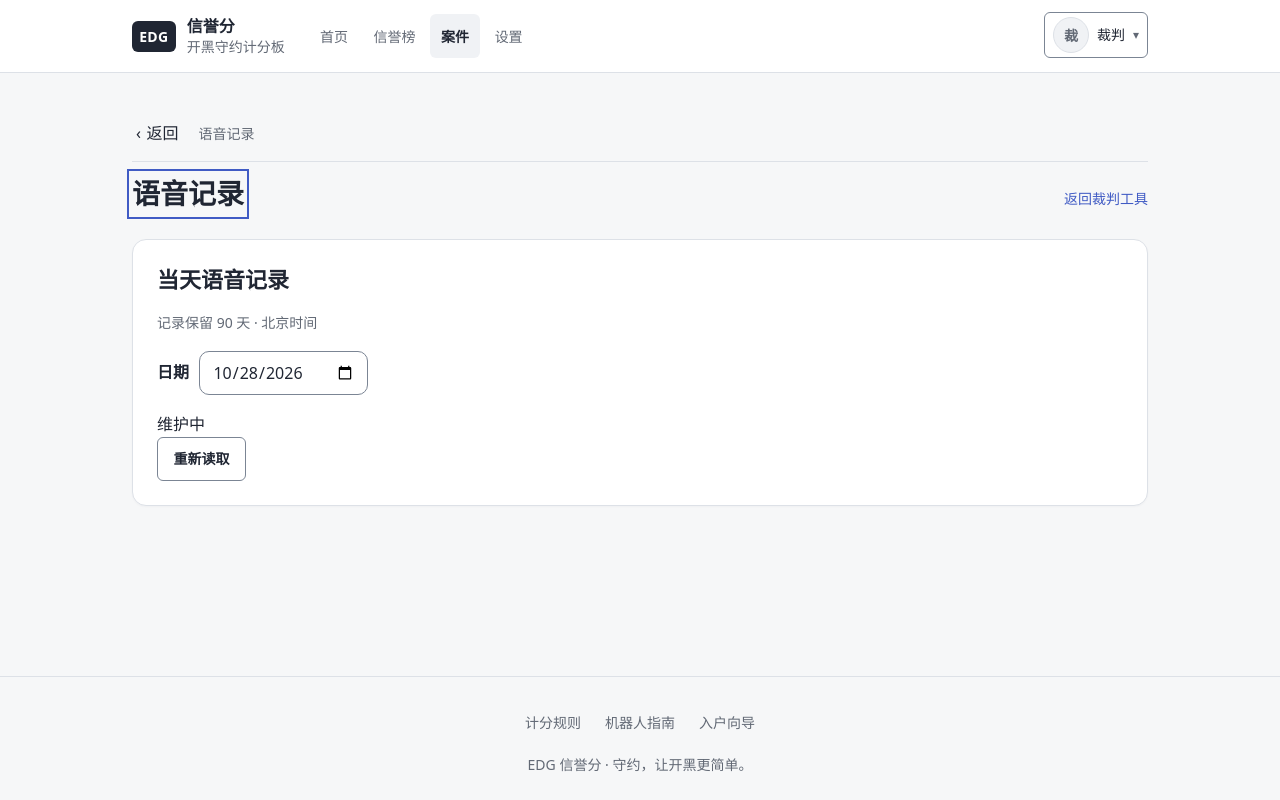
voice management page › shows an ordinary read failure with retry instead of retaining private results
expect the message reads "维护中": met, box [157,412,205,434]
Click the button "重新读取".
click(201, 459)  # box [157,437,246,481]
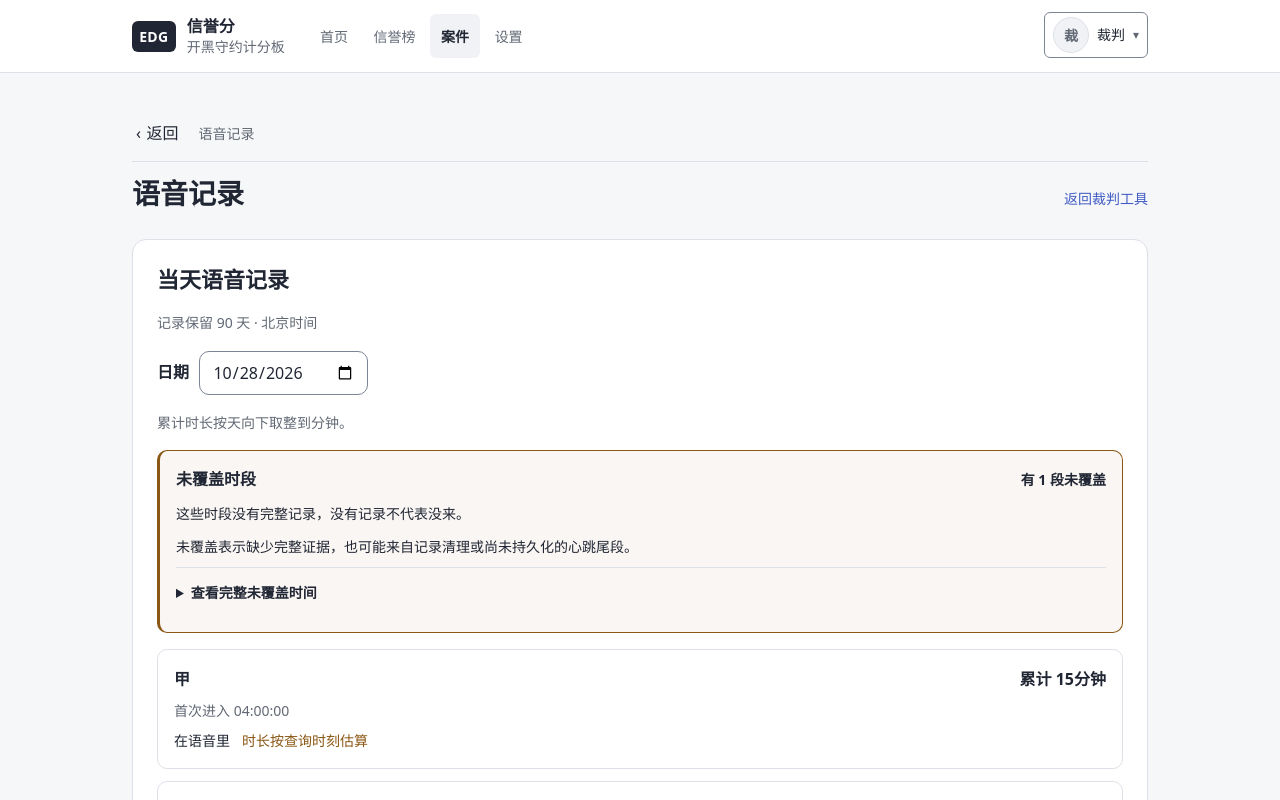
expect the link "甲 累计 15分钟 首次进入 04:00:00 在语音里 时长按查询时刻估算" is shown: met, box [157,649,1123,769]
